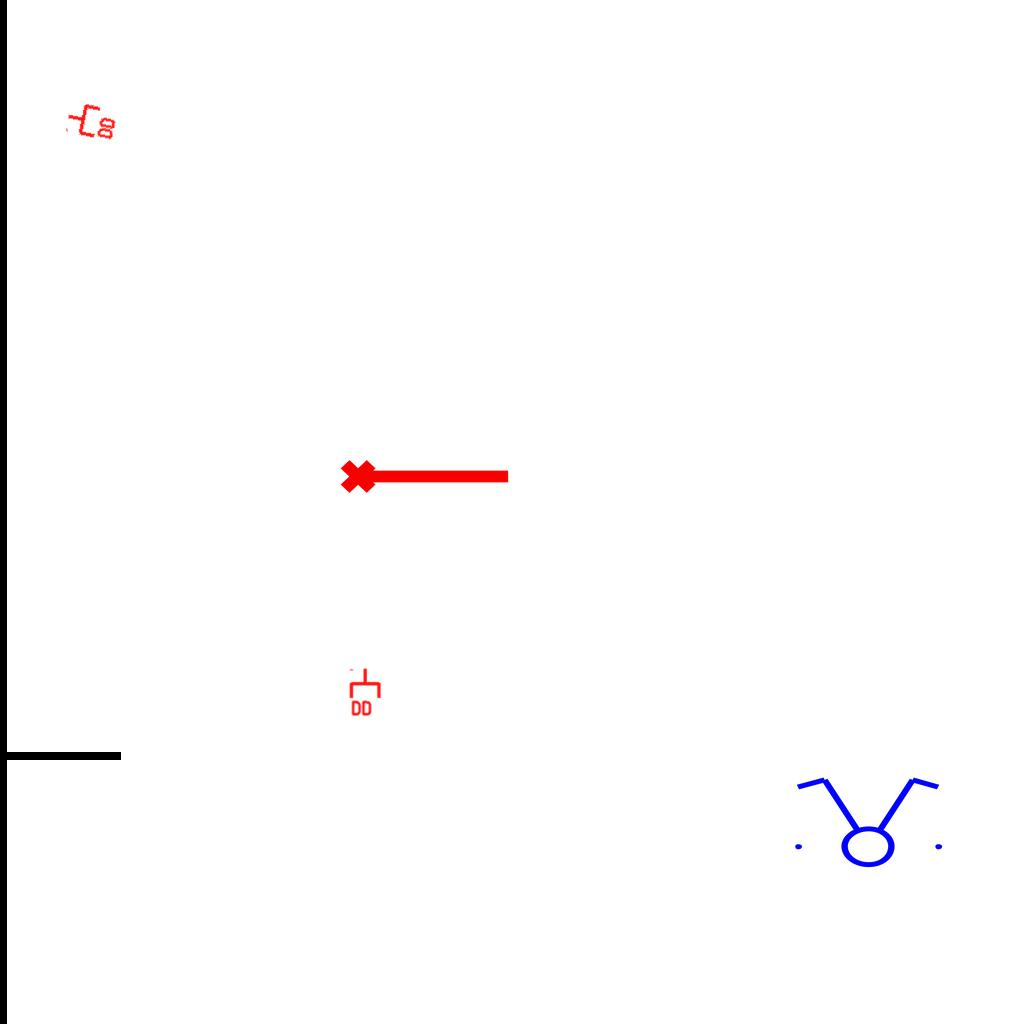ASR_Ansaugoeffnung: (338, 451, 514, 497)
Datenanschluss_zweifach: (63, 98, 121, 143), (349, 667, 383, 718)
Serienschalter: (783, 773, 951, 869)
